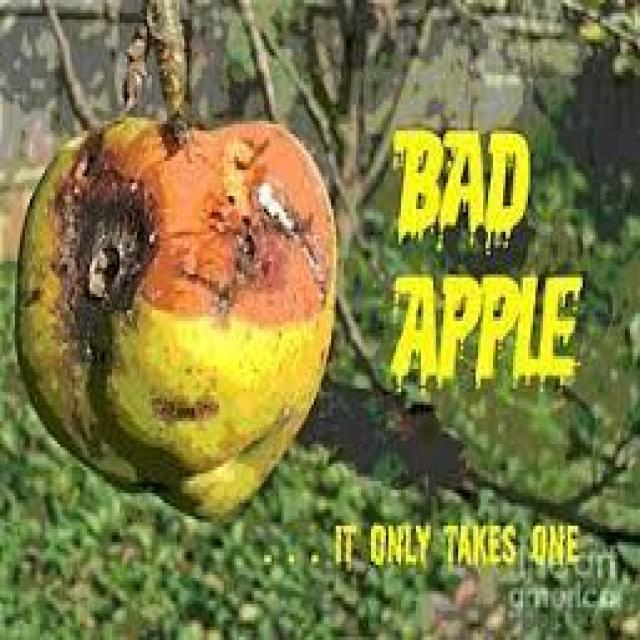maca: (13, 111, 336, 522)
